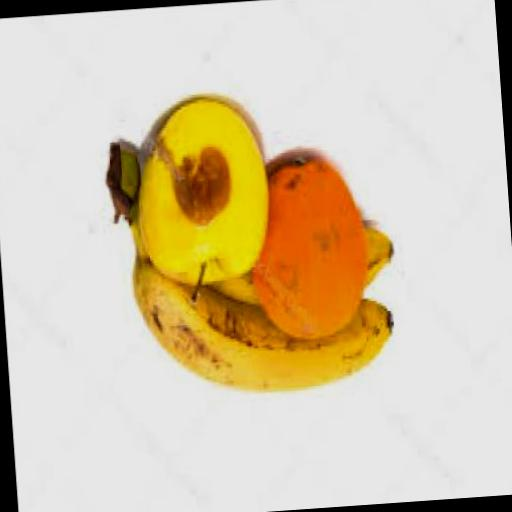biodegradable: (101, 122, 392, 318), (124, 201, 394, 403), (125, 94, 273, 305), (241, 153, 372, 350)
